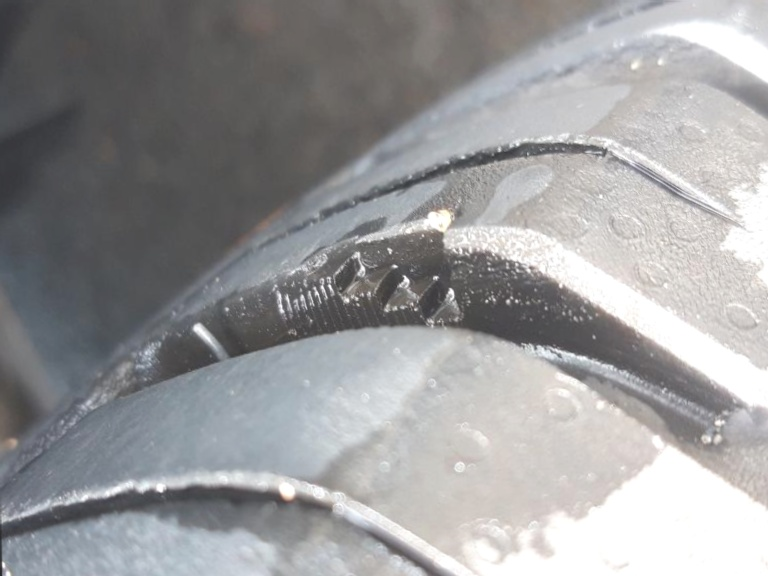temoin:80: (268, 201, 469, 349)
